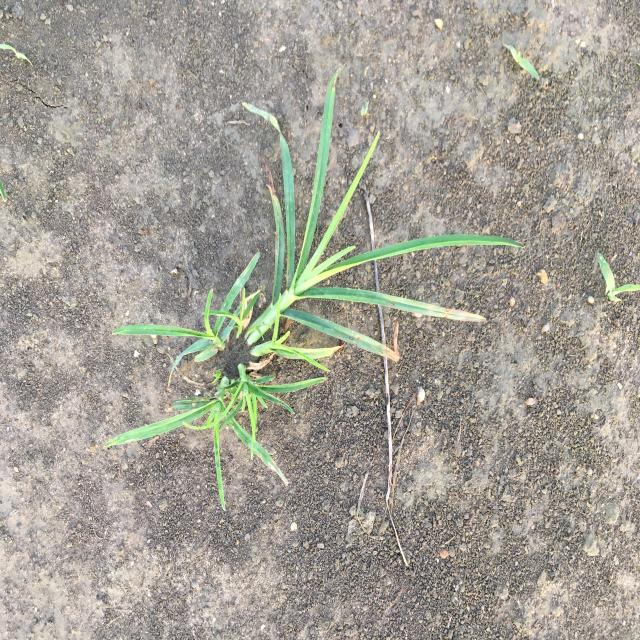Goosegrass: (99, 59, 526, 514)
